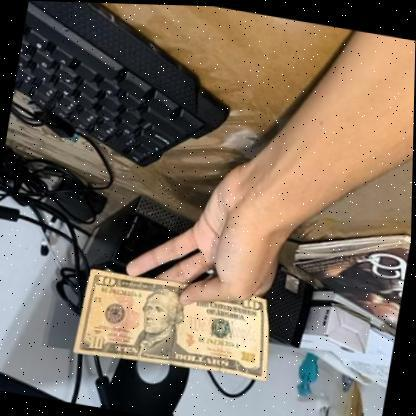ten-front: (70, 260, 284, 380)
